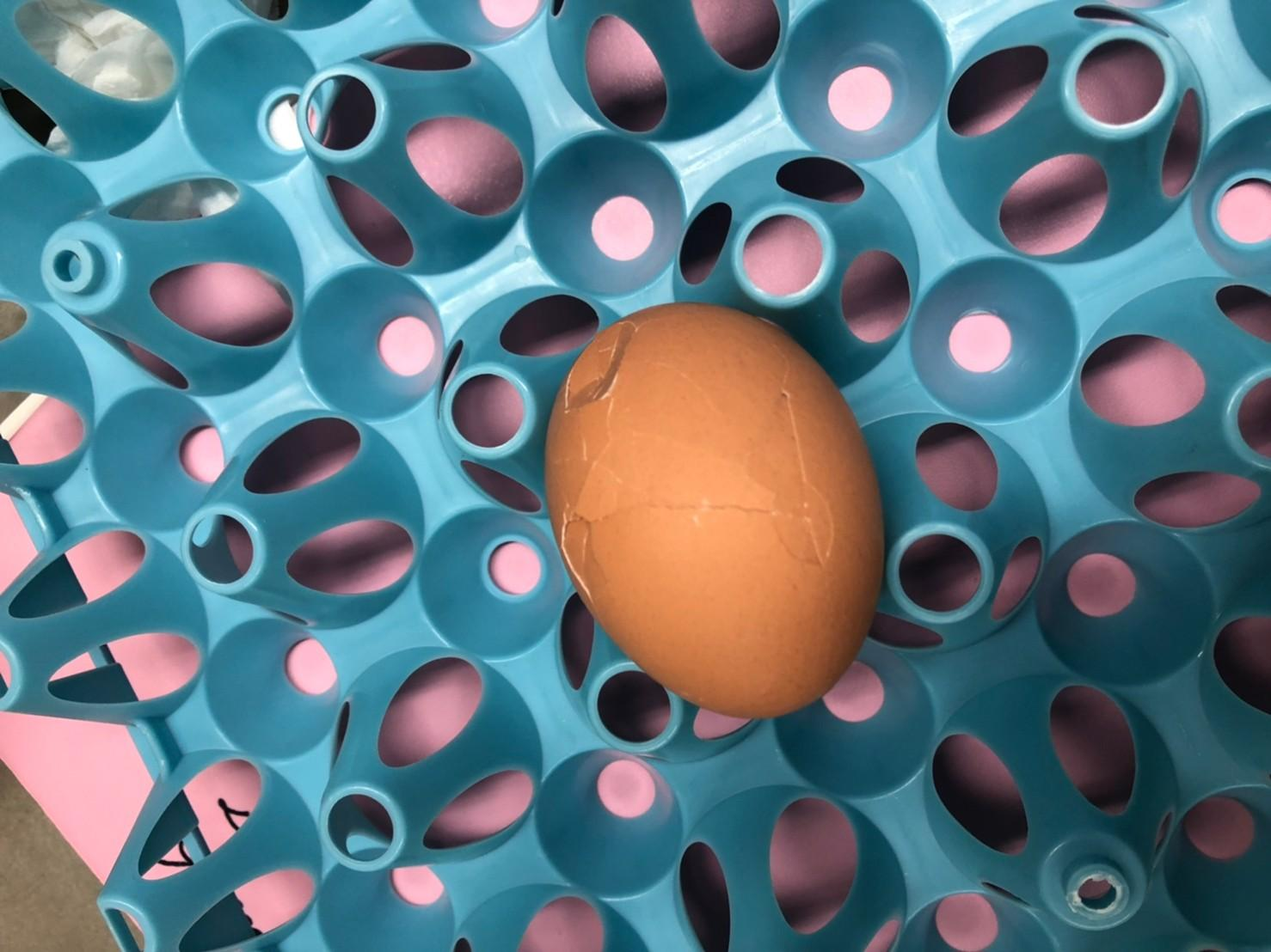egg: (540, 303, 888, 726)
